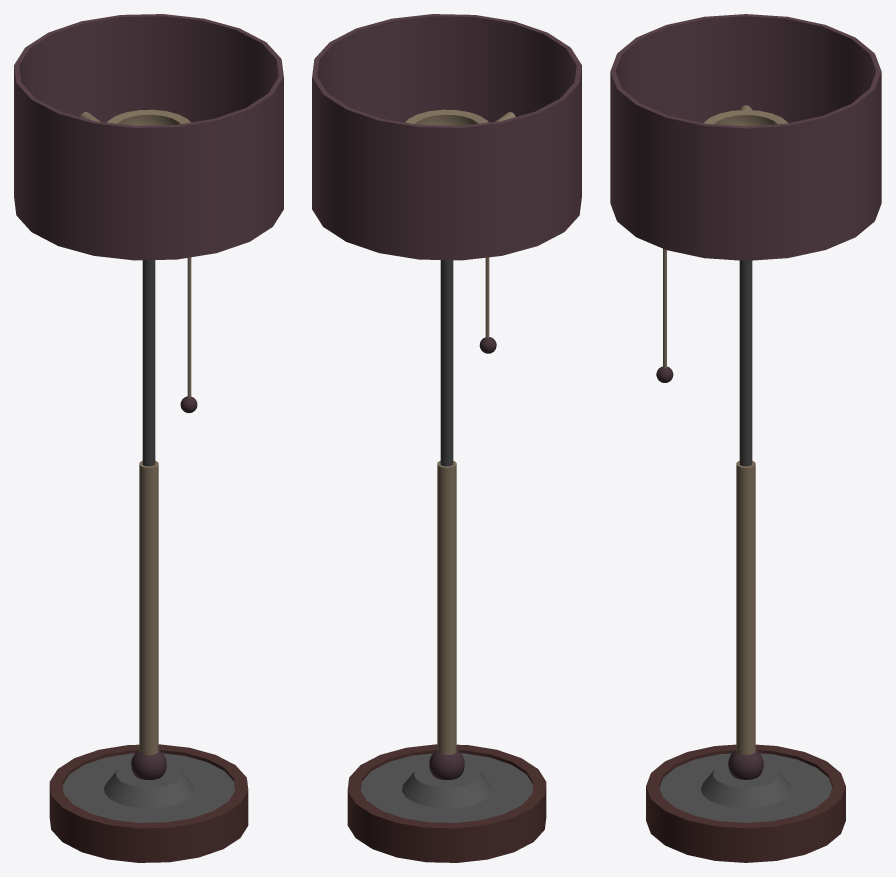
Rendered from colored living room lamp.fbx.
The picture shows the model from 3 angles, left to right: view 1: azimuth 30°, elevation 25°; view 2: azimuth 150°, elevation 25°; view 3: azimuth 270°, elevation 25°; orthographic projection.
Visible parts, largest first — view 1: pCylinder5, pCylinder1, pCylinder2, pCylinder4, pCylinder3, pSphere3, pSphere1, pCylinder8; view 2: pCylinder5, pCylinder1, pCylinder2, pCylinder4, pCylinder3, pSphere3, pSphere1; view 3: pCylinder5, pCylinder1, pCylinder2, pCylinder4, pCylinder3, pSphere3, pSphere1.
Boxes of the visible parts, x1,y1,x2,y2 form: pCylinder5: [14, 14, 283, 260]; pCylinder1: [49, 744, 248, 862]; pCylinder2: [62, 753, 235, 822]; pCylinder4: [139, 460, 158, 755]; pCylinder3: [142, 260, 155, 466]; pSphere3: [107, 109, 190, 125]; pSphere1: [131, 750, 166, 779]; pCylinder8: [187, 257, 191, 397]; pCylinder5: [312, 14, 581, 260]; pCylinder1: [347, 744, 546, 862]; pCylinder2: [360, 753, 533, 822]; pCylinder4: [437, 460, 456, 755]; pCylinder3: [440, 260, 453, 466]; pSphere3: [405, 109, 488, 125]; pSphere1: [429, 750, 464, 779]; pCylinder5: [610, 14, 881, 260]; pCylinder1: [646, 744, 845, 862]; pCylinder2: [659, 753, 832, 822]; pCylinder4: [736, 461, 755, 754]; pCylinder3: [739, 260, 752, 466]; pSphere3: [703, 110, 788, 126]; pSphere1: [728, 750, 763, 779].
Size of the model in its own units: 0.5344 by 1.63 by 0.5344.
